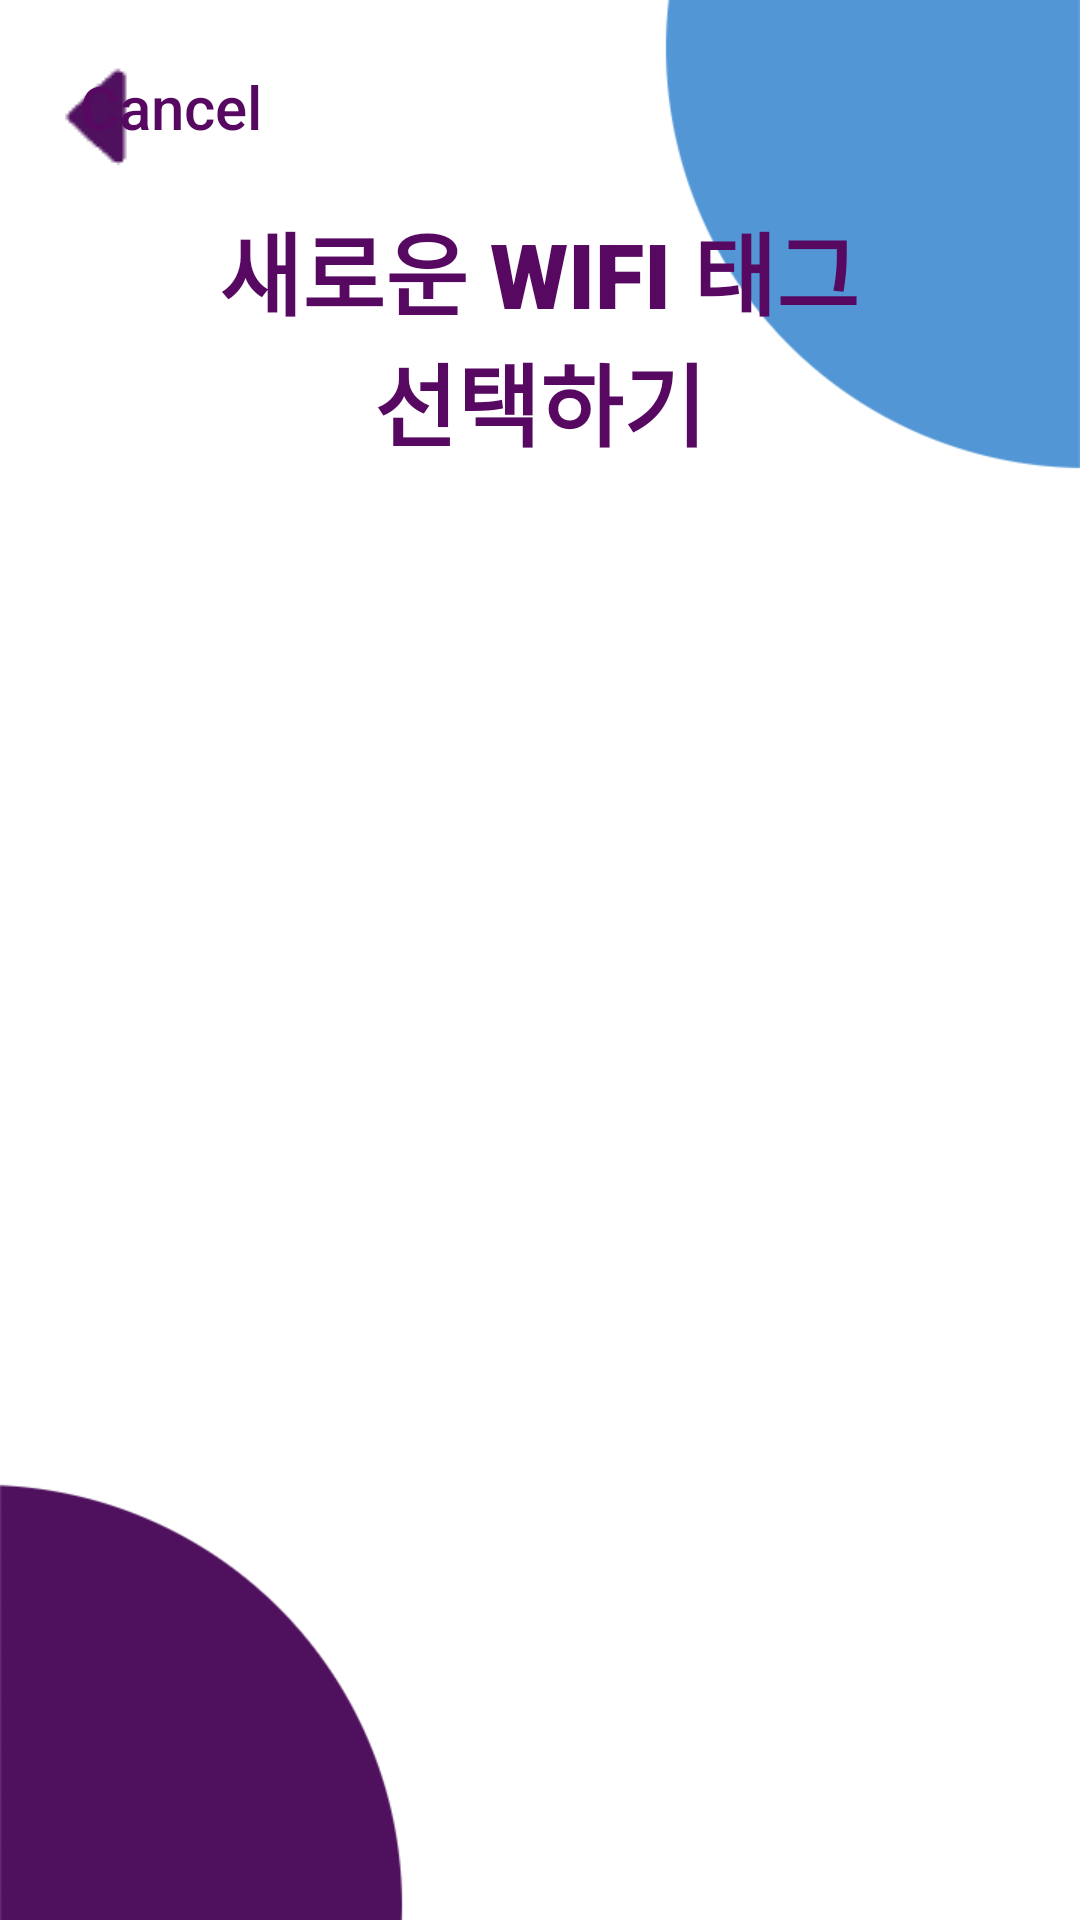

Icons on this 1080w x 1920h Android screen, each with its box as [x1,y1,x2,y2]:
previous: [65,68,144,165]
